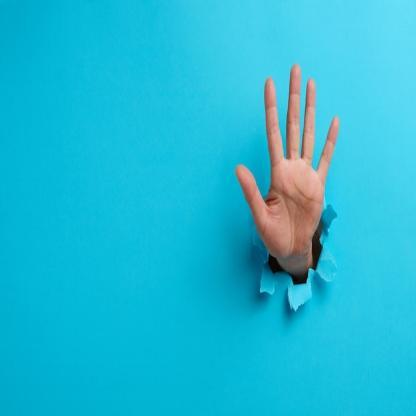stop: (233, 57, 340, 268)
